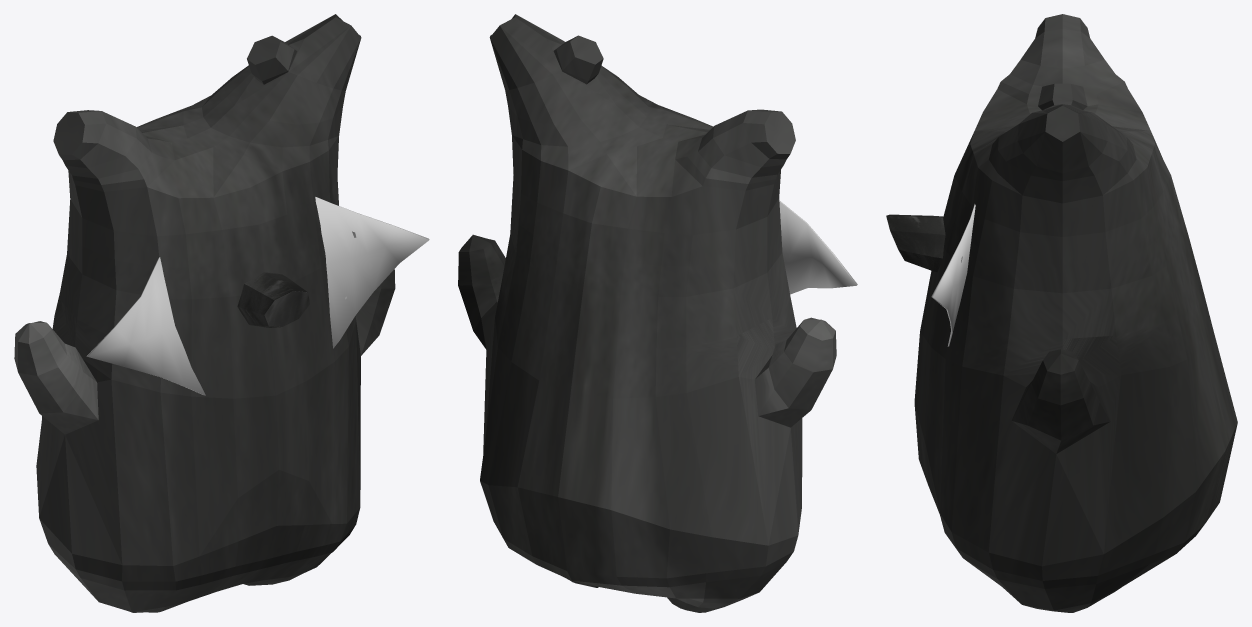
Rendered from frame_0063.obj.
3 views of the same model, side by side, from view 1: azimuth 30°, elevation 25°; view 2: azimuth 150°, elevation 25°; view 3: azimuth 270°, elevation 25° (orthographic).
Parts seen in each view (by area): view 1: korok, leaf, nose; view 2: korok, leaf; view 3: korok, nose, leaf.
Part boxes in pixels (box(x1,y1,x2,y2)): korok: box(14, 14, 395, 612); leaf: box(86, 197, 429, 395); nose: box(237, 272, 309, 327); korok: box(458, 14, 836, 612); leaf: box(779, 200, 857, 294); korok: box(914, 14, 1237, 612); nose: box(886, 214, 945, 272); leaf: box(931, 204, 975, 346).
Size of the model in its own units: 1.54 by 2.15 by 1.27.
